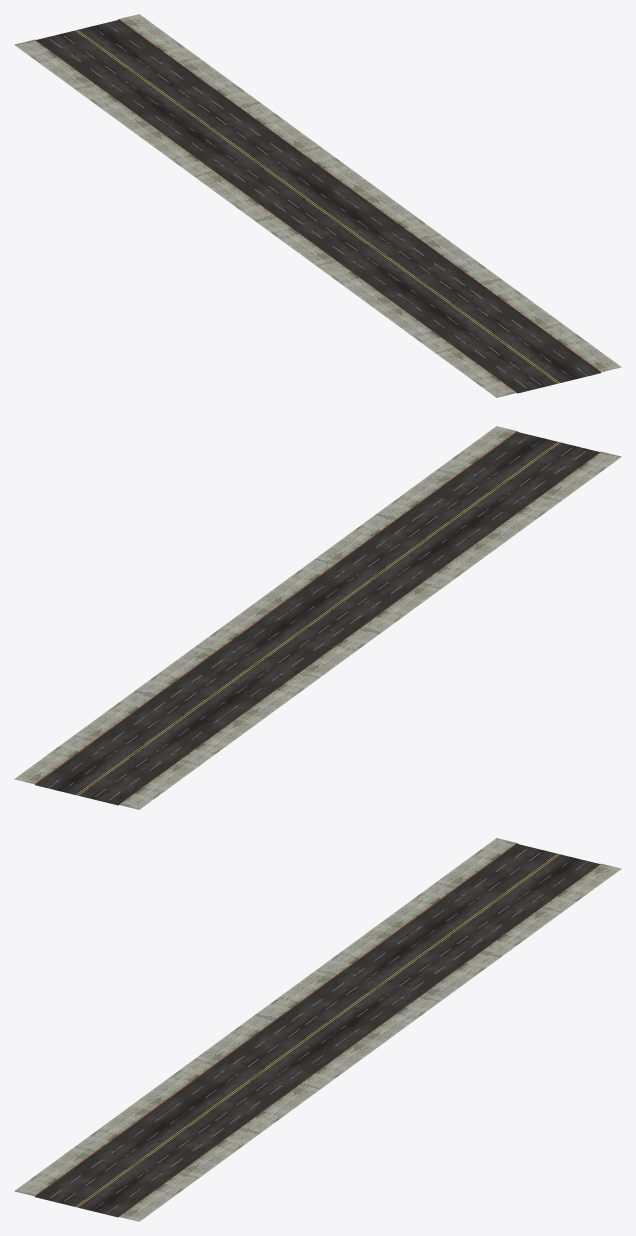
3 views of the same model, one above another, from view 1: azimuth 30°, elevation 25°; view 2: azimuth 150°, elevation 25°; view 3: azimuth 330°, elevation 25° (orthographic).
Parts seen in each view (by area): view 1: road_03__0.002_22; view 2: road_03__0.002_22; view 3: road_03__0.002_22.
Part boxes in pixels (x1,y1,x2,y2): road_03__0.002_22: [14, 14, 621, 397]; road_03__0.002_22: [14, 426, 621, 809]; road_03__0.002_22: [14, 838, 621, 1221].
Bounding box in the file's own units: 35.19 × 0.1968 × 235.
1 material, 1 textured.
